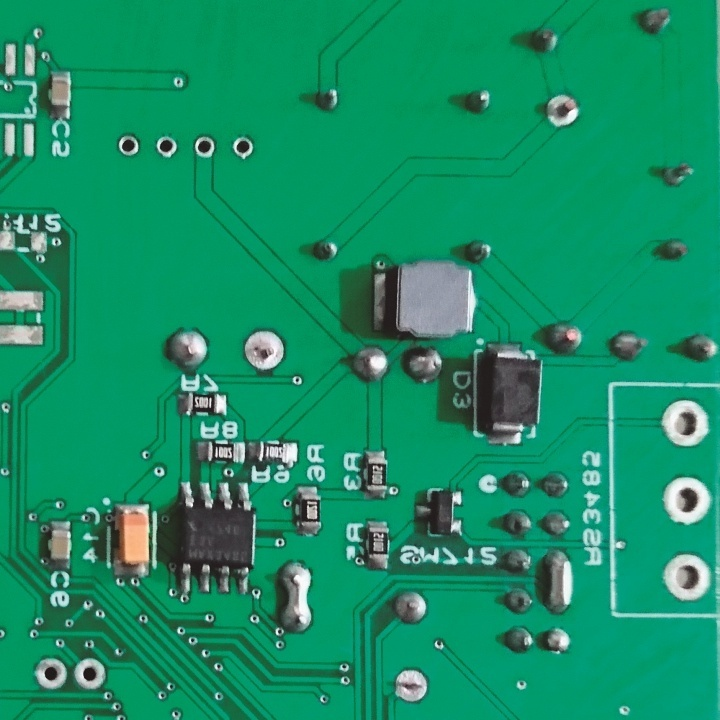F: (658, 550, 716, 606), (659, 471, 714, 527), (659, 395, 713, 449), (241, 326, 284, 373), (391, 666, 430, 707), (545, 91, 585, 129), (33, 653, 68, 695), (73, 657, 109, 692), (116, 130, 144, 164), (228, 132, 256, 163), (154, 134, 180, 160), (193, 134, 217, 162)
P: (275, 559, 319, 638), (536, 545, 581, 616)
